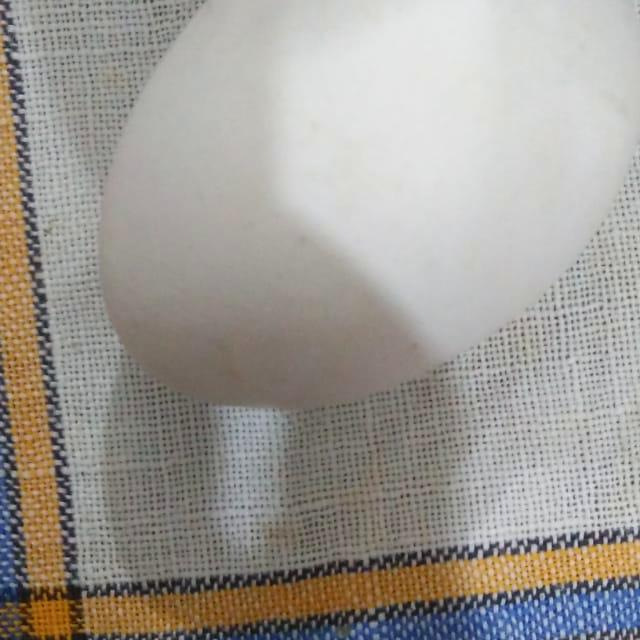egg: (93, 0, 640, 413)
